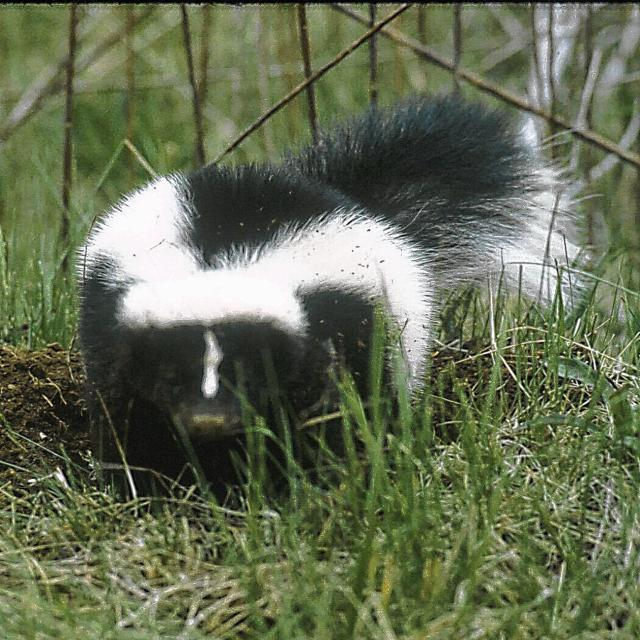Skunk: (40, 63, 542, 492)
